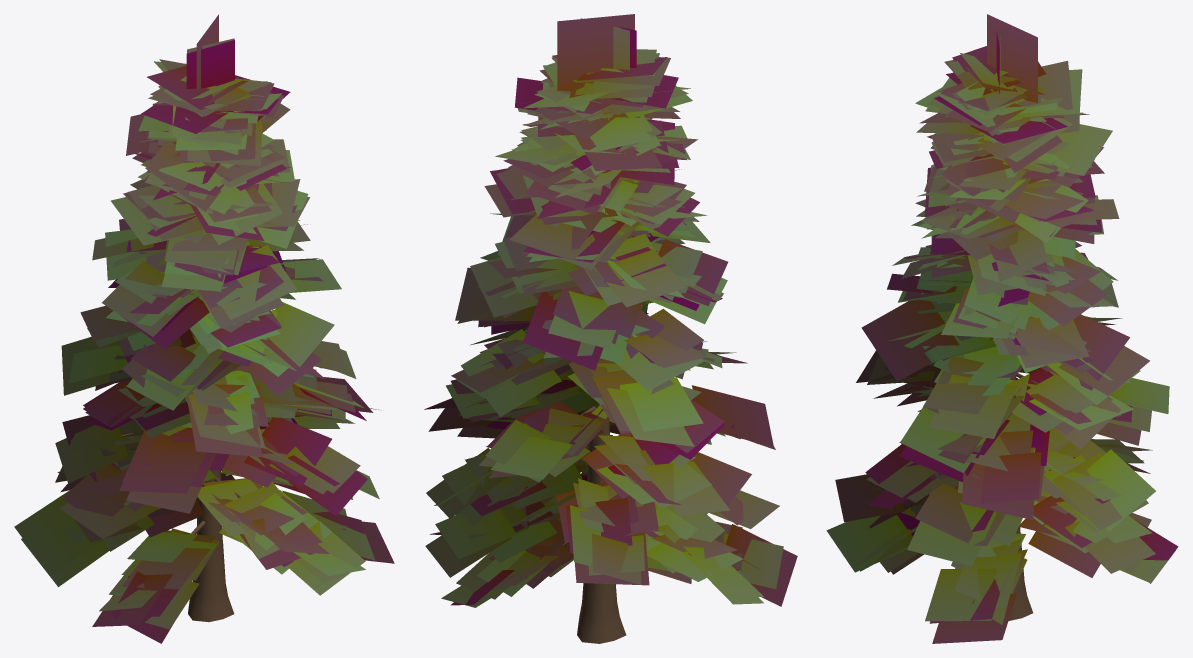
Rendered from tree_pine_1.glb.
The picture shows the model from 3 angles, left to right: view 1: azimuth 30°, elevation 25°; view 2: azimuth 150°, elevation 25°; view 3: azimuth 270°, elevation 25°; orthographic projection. The views are drawn at different scales.
Visible parts, largest first — view 1: Leaves, Trunk; view 2: Leaves, Trunk; view 3: Leaves, Trunk.
Part boxes in pixels (box(x1,y1,x2,y2)): Leaves: box(14, 14, 394, 643); Trunk: box(122, 433, 346, 622); Leaves: box(424, 14, 797, 607); Trunk: box(558, 380, 652, 643); Leaves: box(826, 14, 1178, 643); Trunk: box(972, 373, 1038, 620).
Size of the model in its own units: 5.75 by 9.83 by 5.36.
